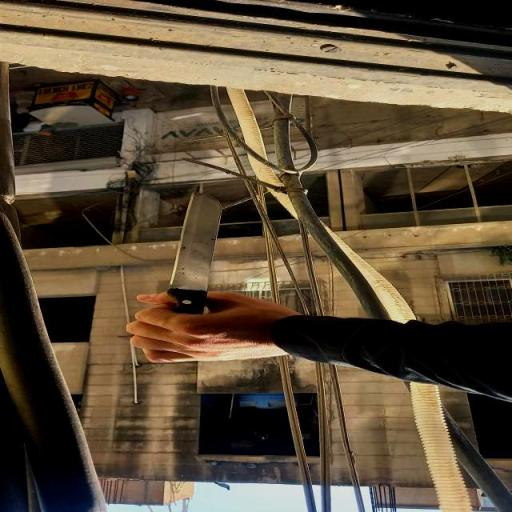knife: (167, 192, 223, 314)
